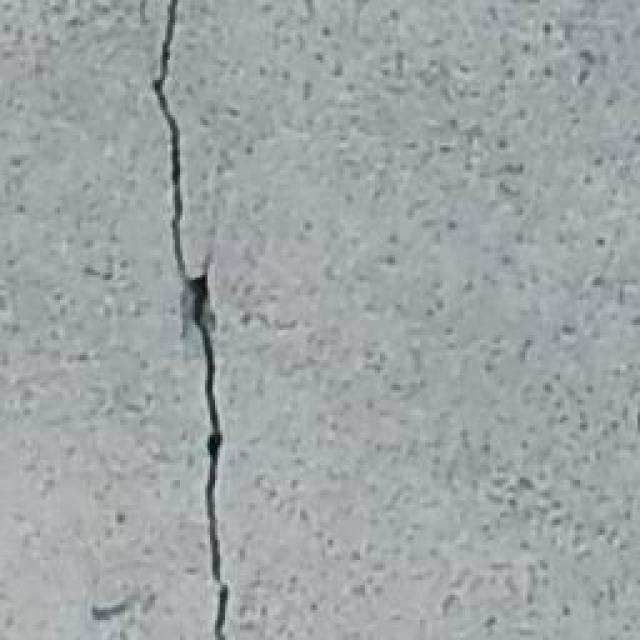concrete-crack: (158, 0, 232, 640)
